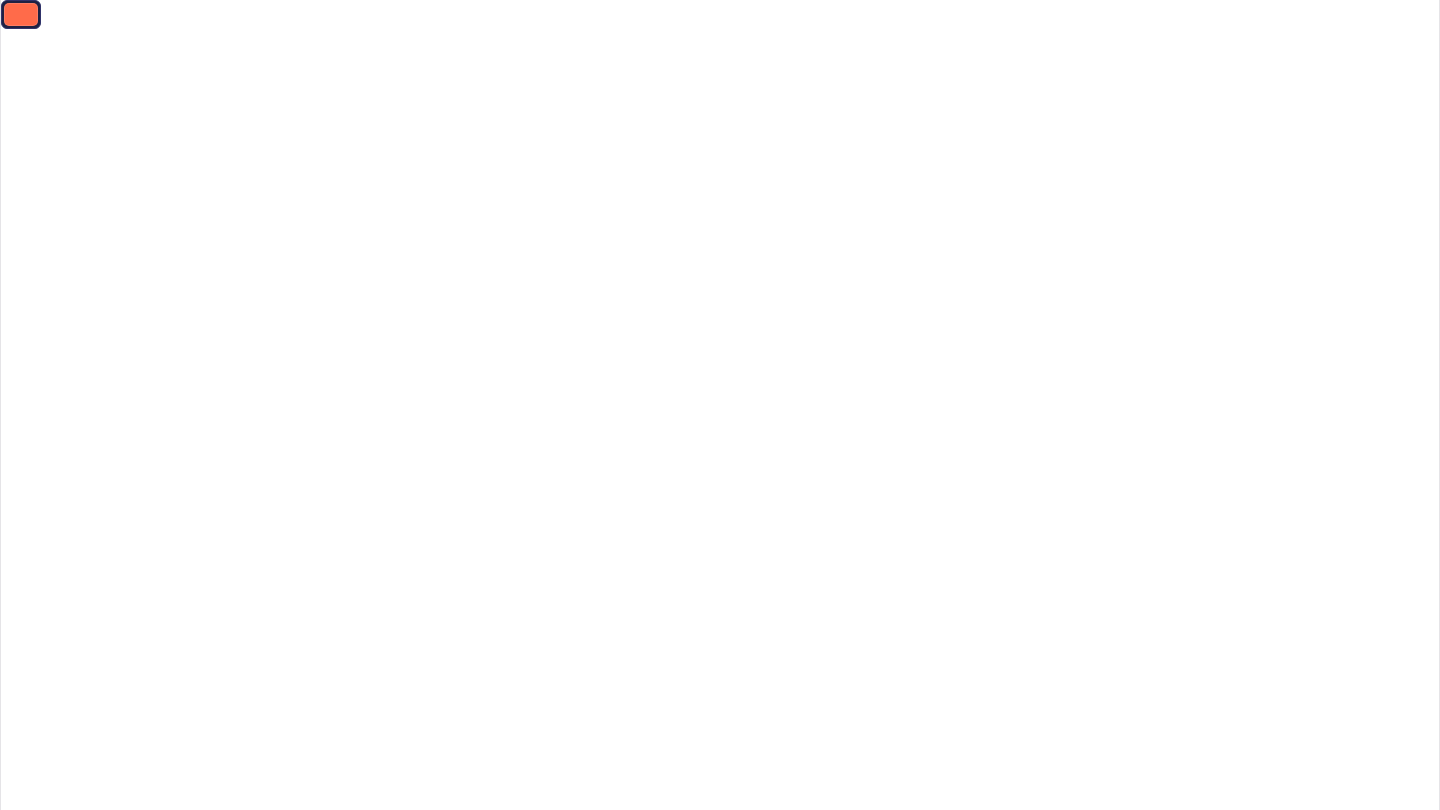
Scenario: ColorPicker › s'ouvre au clic et se ferme avec Échap
The width and height of the screenshot is (1440, 810).
Later steps or results of the test are not shown.
What coordinates should you click on to do the following:
click the button named "Choisir une couleur"
I would click on:
 (21, 14)
Its box is 1,0 -> 41,29.
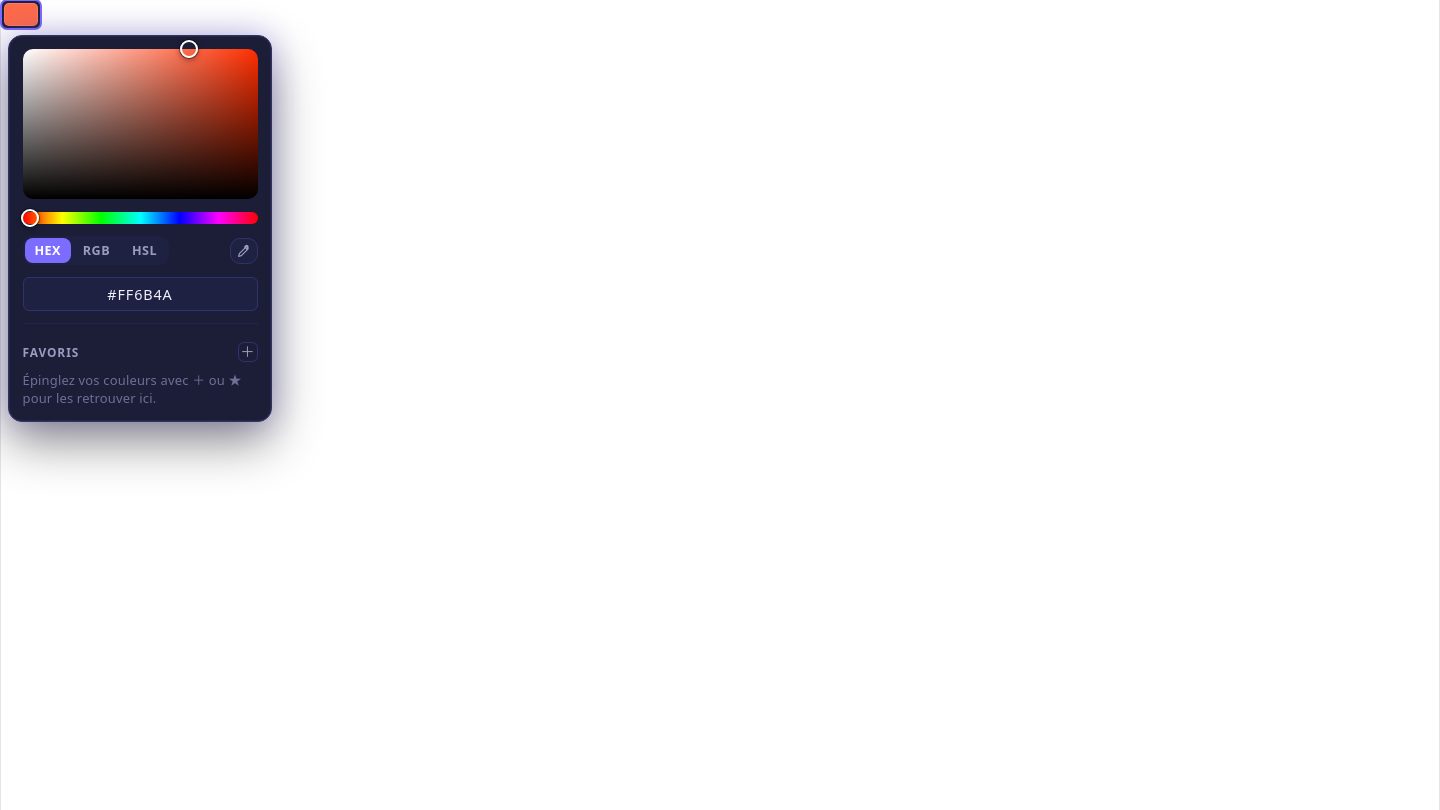
Expected: the dialog named "Sélecteur de couleur" is shown, 8,35 -> 272,422
